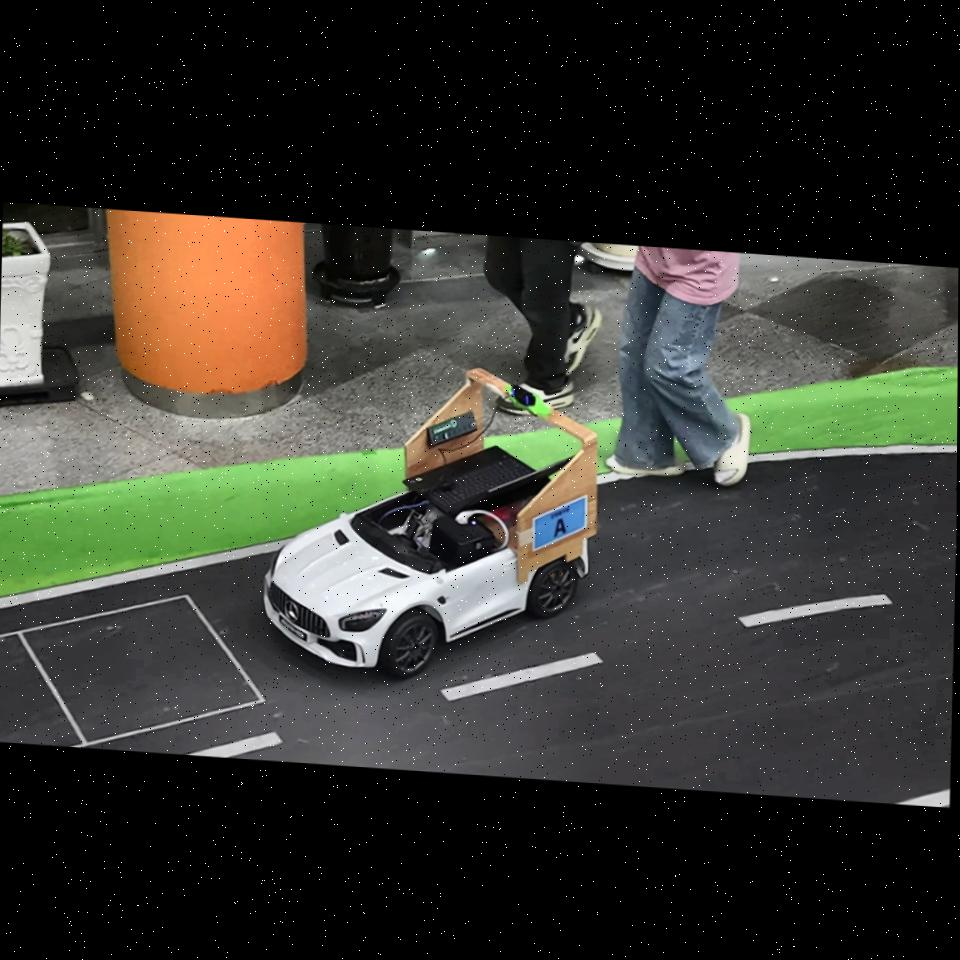broken_line: (441, 652, 602, 701), (738, 594, 892, 627), (187, 732, 283, 758)
